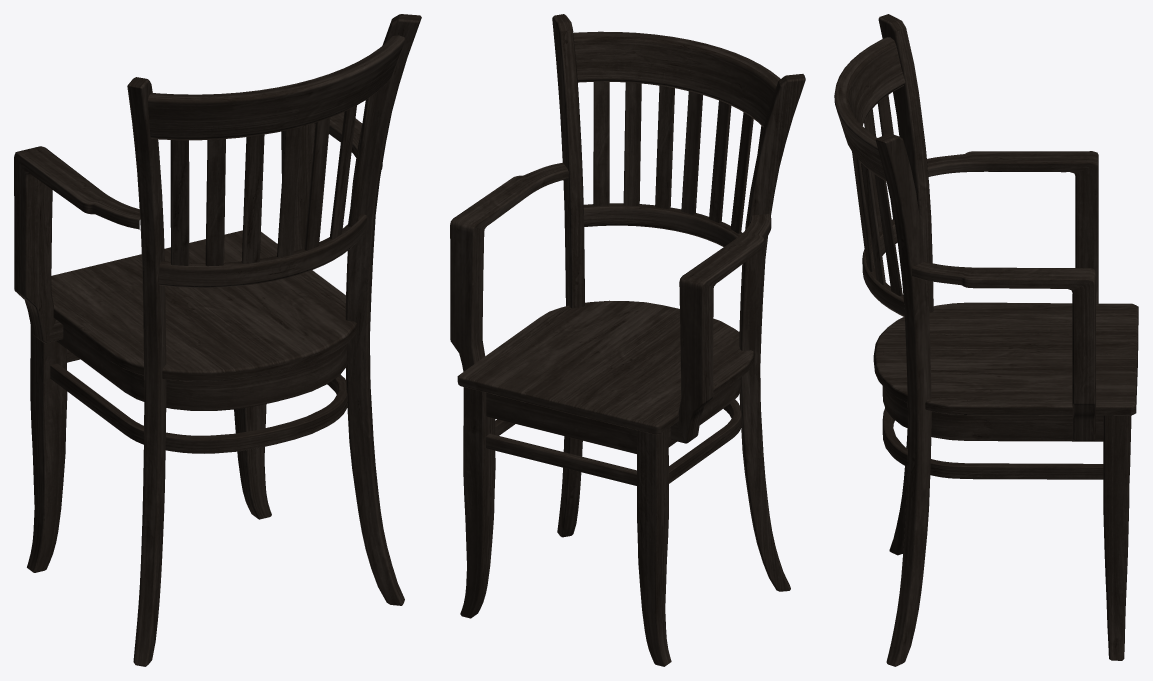
The model's file is IndoorChair_adapted.glb.
3 renders of one model, left to right at view 1: azimuth 30°, elevation 25°; view 2: azimuth 150°, elevation 25°; view 3: azimuth 270°, elevation 25°, orthographic. The views are drawn at different scales.
Size of the model in its own units: 0.6084 by 1.16 by 0.6032.
1 material, 1 textured.
